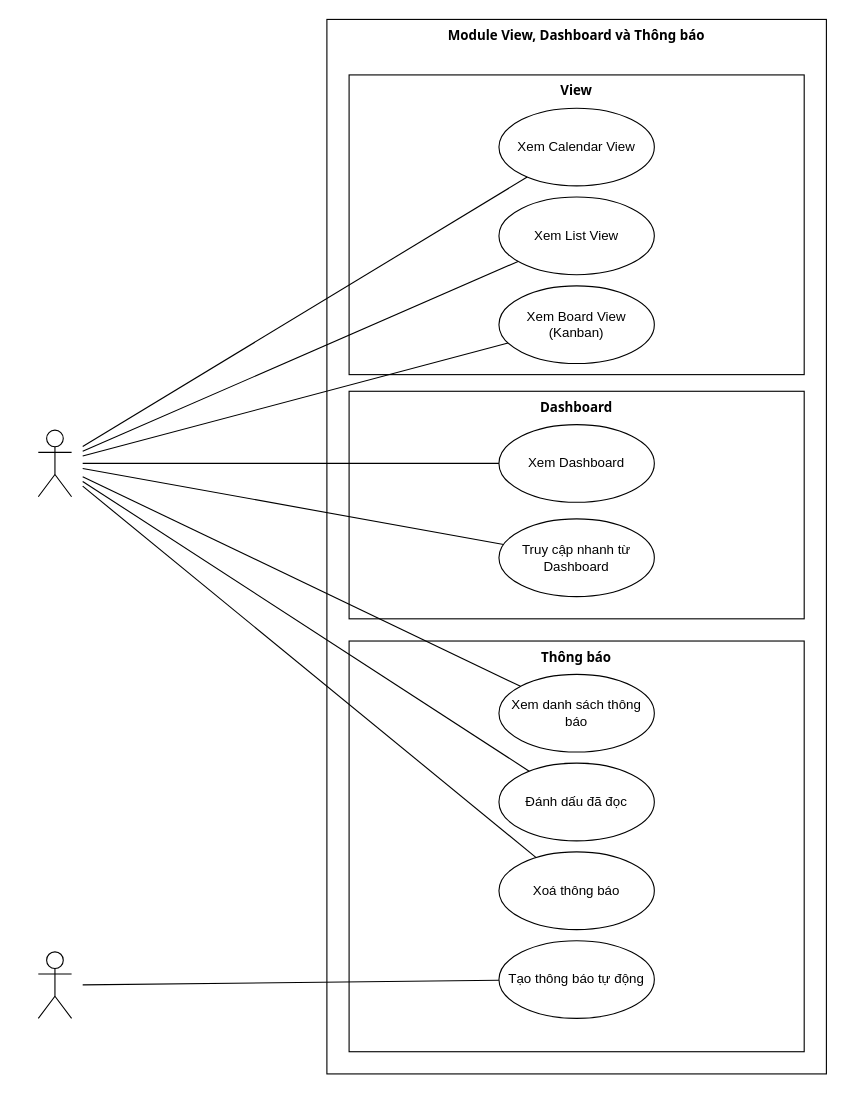
Some shapes in this 846 by 1093 pixel diagram are drawn without their labels. The shapes that lost their labels are listed below. From the top down, each one's box as (x1, y1, x2, y2) in pixels, then its label:
(37, 429, 72, 497): Người dùng
(37, 951, 72, 1018): Hệ thống
